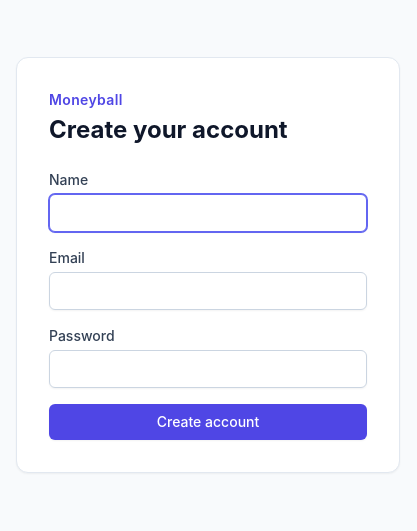
Test: SignupPage › with a token in URL › shows error message on 422
This screenshot has width=417, height=531.
Type "Jane" into the field labelled "Name" at (208, 213), box [49,194,367,232]
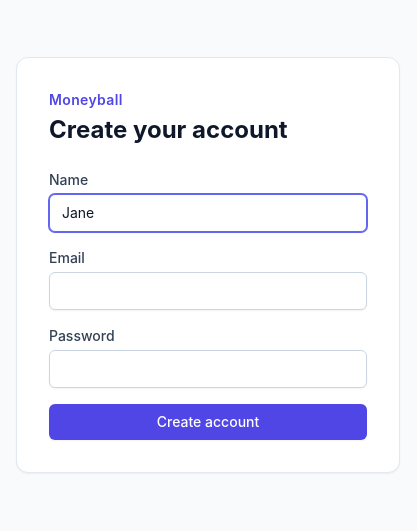
Type "jane@x.com" into the field labelled "Email" at (208, 291), box [49,272,367,310]
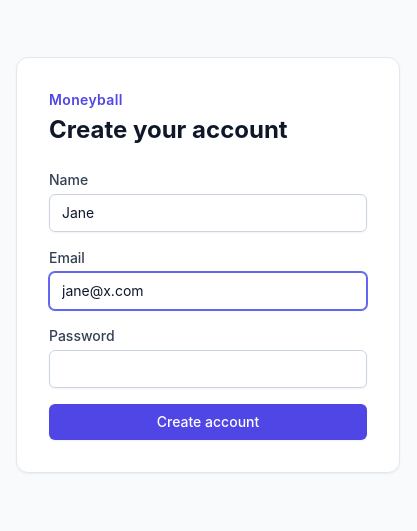
Type "pw" into the password field labelled "Password" at (208, 369), box [49,350,367,388]
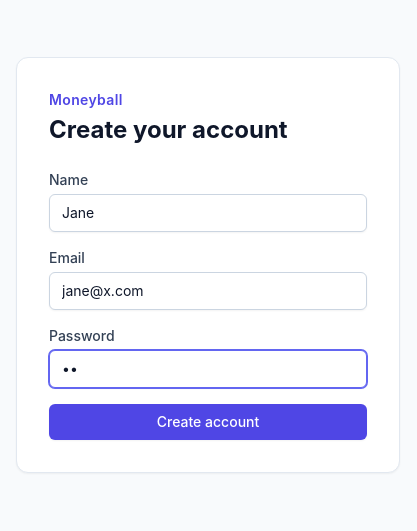
Click the button "Create account" at (208, 422), box [49,404,367,440]
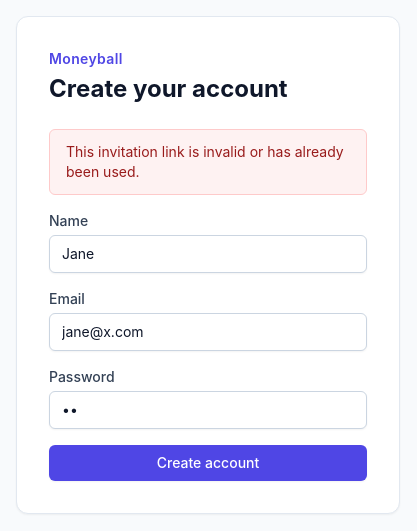
Expected: the message shows "invalid or has already been used", [66,143,344,180]
